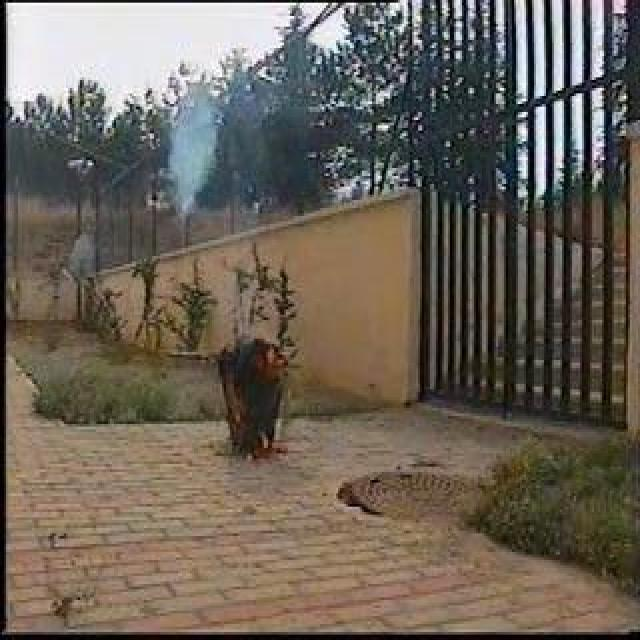smoke: (162, 84, 220, 217)
